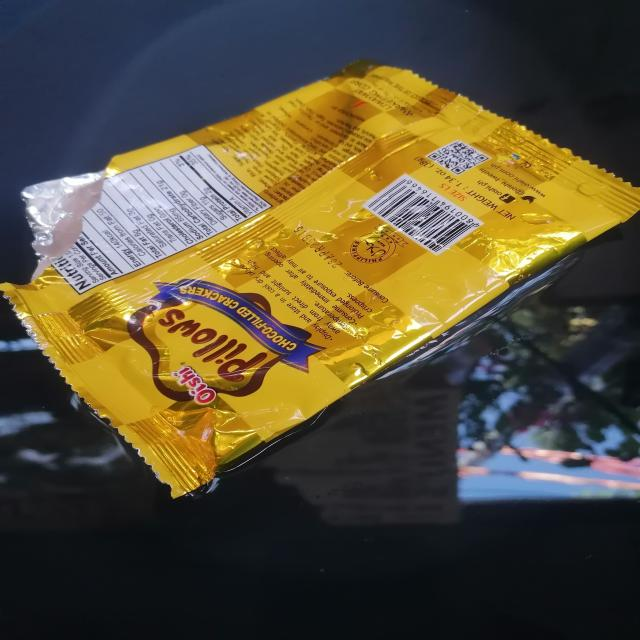Plastic Wrapper: (3, 66, 640, 497)
